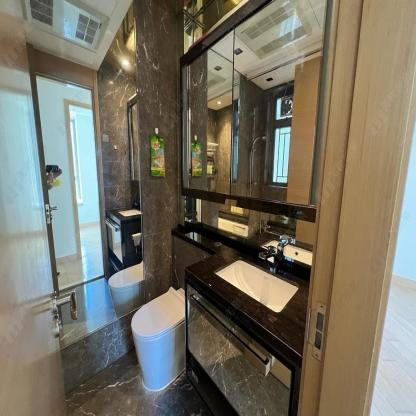Exhaust Fan: (280, 95, 293, 117)
Faucet: (257, 237, 287, 267)
Toilet: (131, 286, 186, 391)
Toilet Sink: (183, 247, 309, 370)
